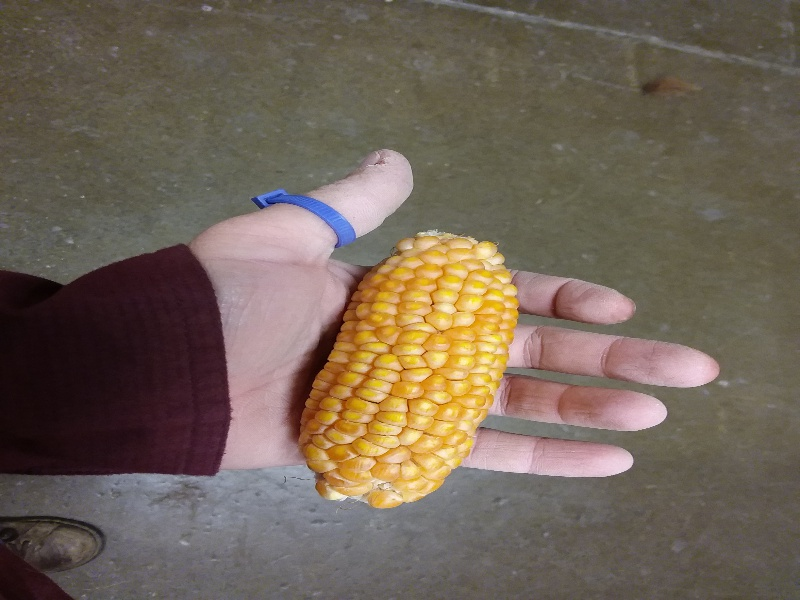band: (252, 188, 361, 248)
ear: (293, 224, 525, 511)
